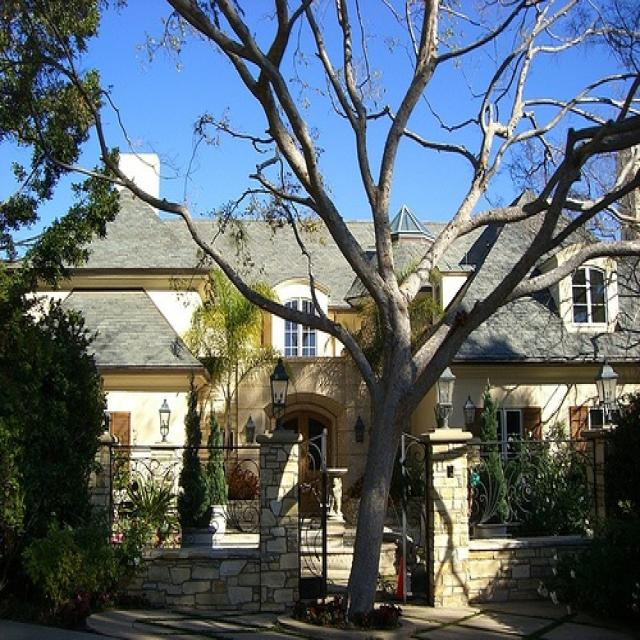pottedplant: (176, 370, 212, 544), (472, 379, 507, 537), (204, 396, 229, 536)
